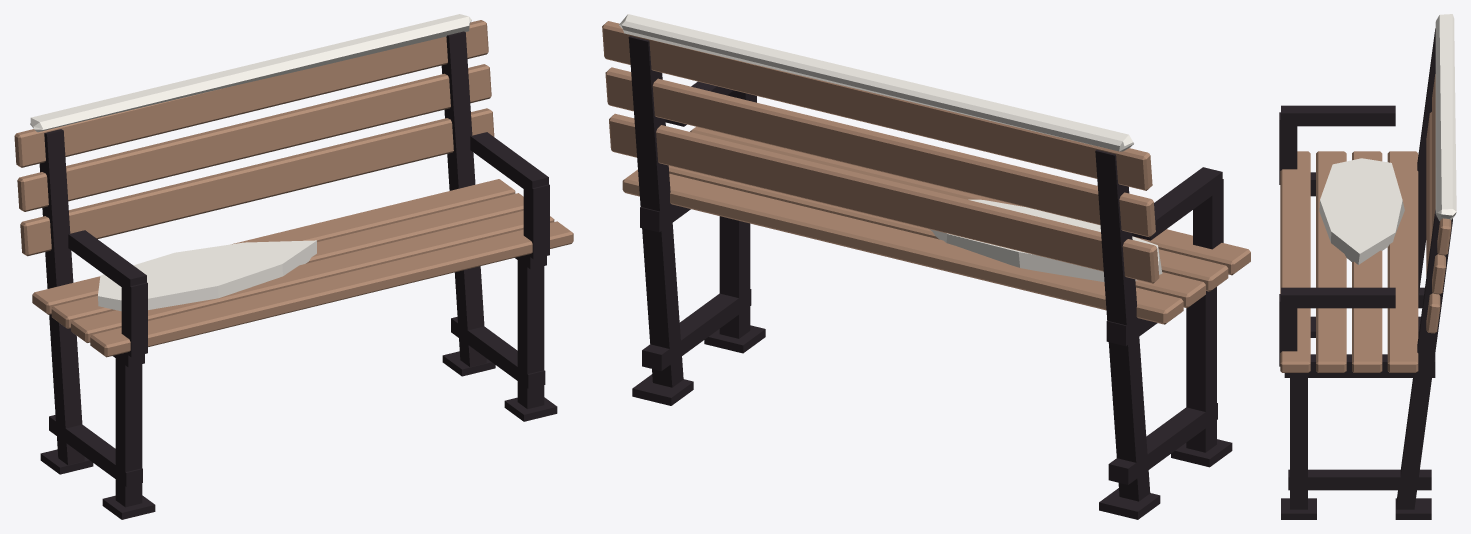
The model's file is sb_bench.glb.
The picture shows the model from 3 angles, left to right: view 1: azimuth 30°, elevation 25°; view 2: azimuth 150°, elevation 25°; view 3: azimuth 270°, elevation 25°; orthographic projection. The views are drawn at different scales.
Visible parts, largest first — view 1: bench; view 2: bench; view 3: bench.
Part boxes in pixels (x1,y1,x2,y2): bench: [14, 14, 573, 519]; bench: [602, 14, 1250, 519]; bench: [1279, 14, 1456, 519].
Size of the model in its own units: 1.4 by 0.9534 by 0.4948.
